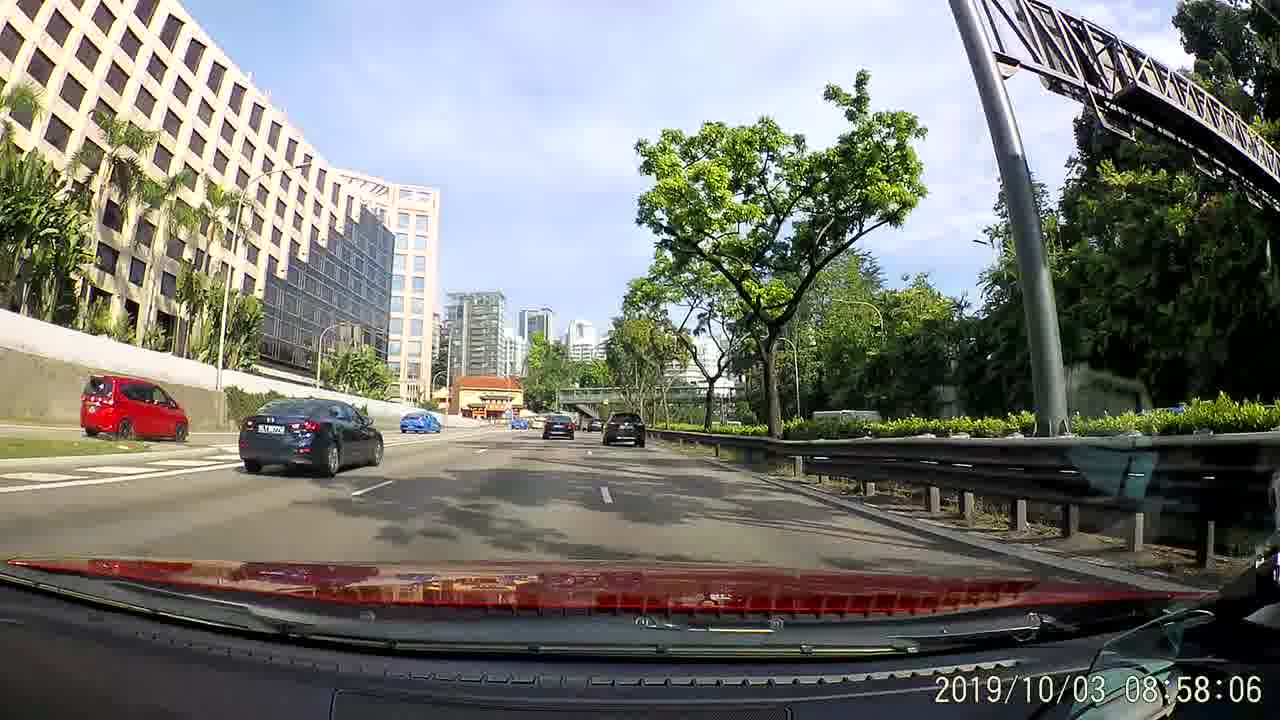car: (238, 390, 383, 477), (74, 370, 188, 443), (603, 413, 646, 448), (399, 409, 443, 433), (539, 411, 575, 438), (507, 415, 529, 429), (587, 415, 604, 432)
